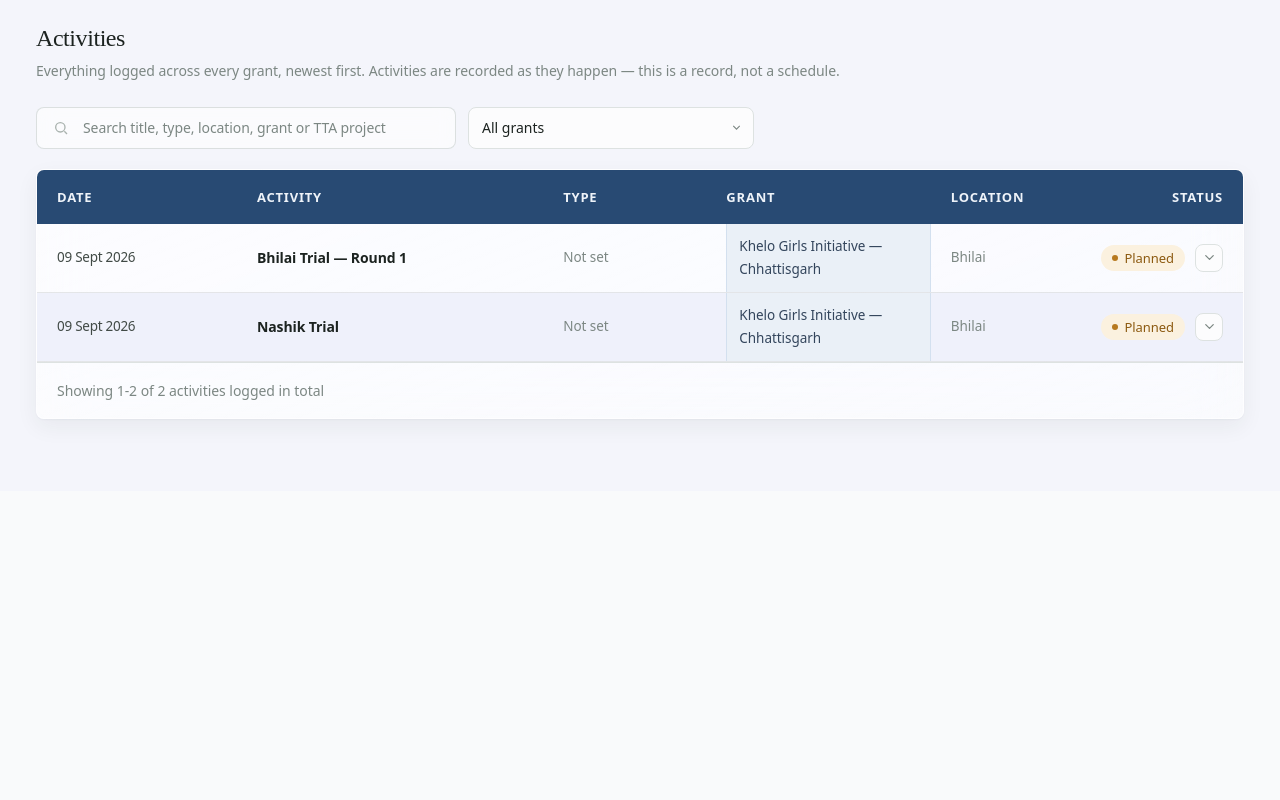
Test: the expanded detail names the partner, not a raw id
Click the button named "Show details for Bhilai Trial": (1209, 258) x1=1195 y1=244 x2=1223 y2=272
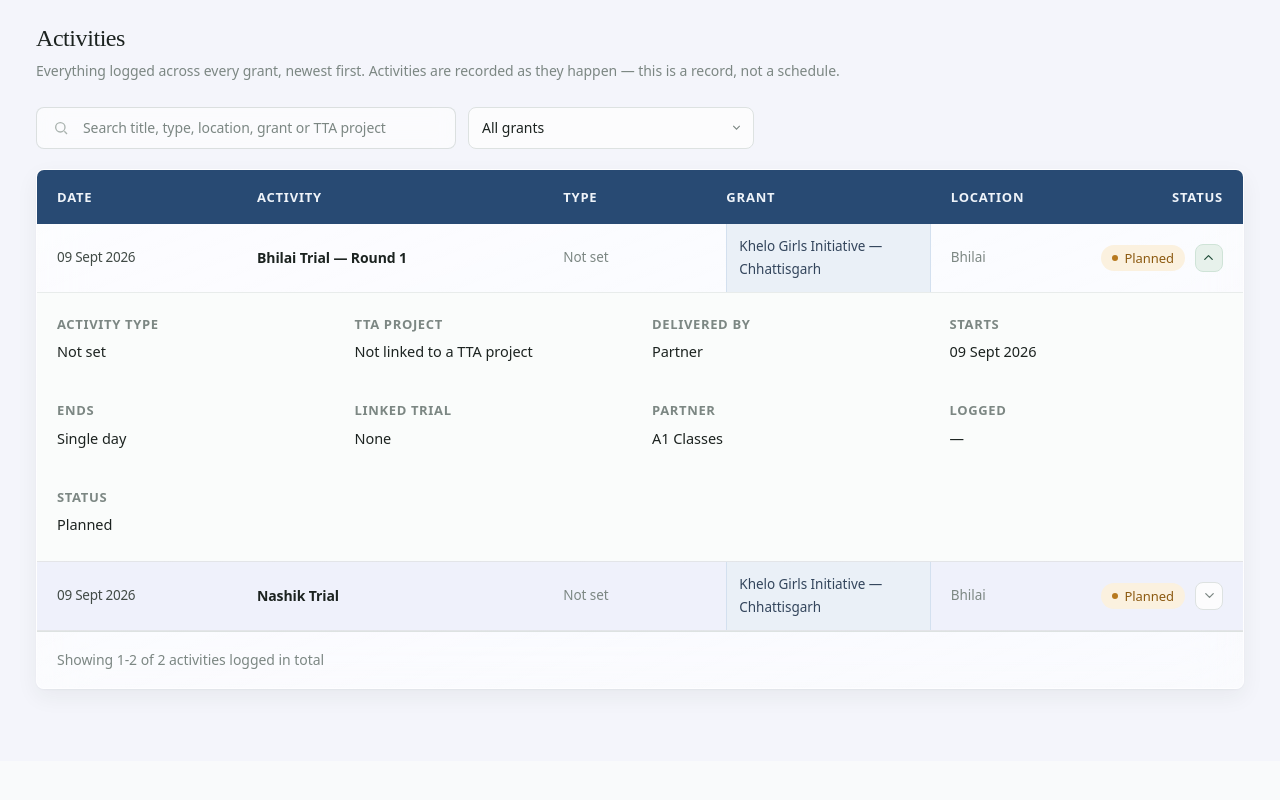
expect the text "A1 Classes" is shown: met, box x1=652 y1=428 x2=723 y2=448
Click the button named "Show details for Nashik Trial": (1209, 596) x1=1195 y1=582 x2=1223 y2=610
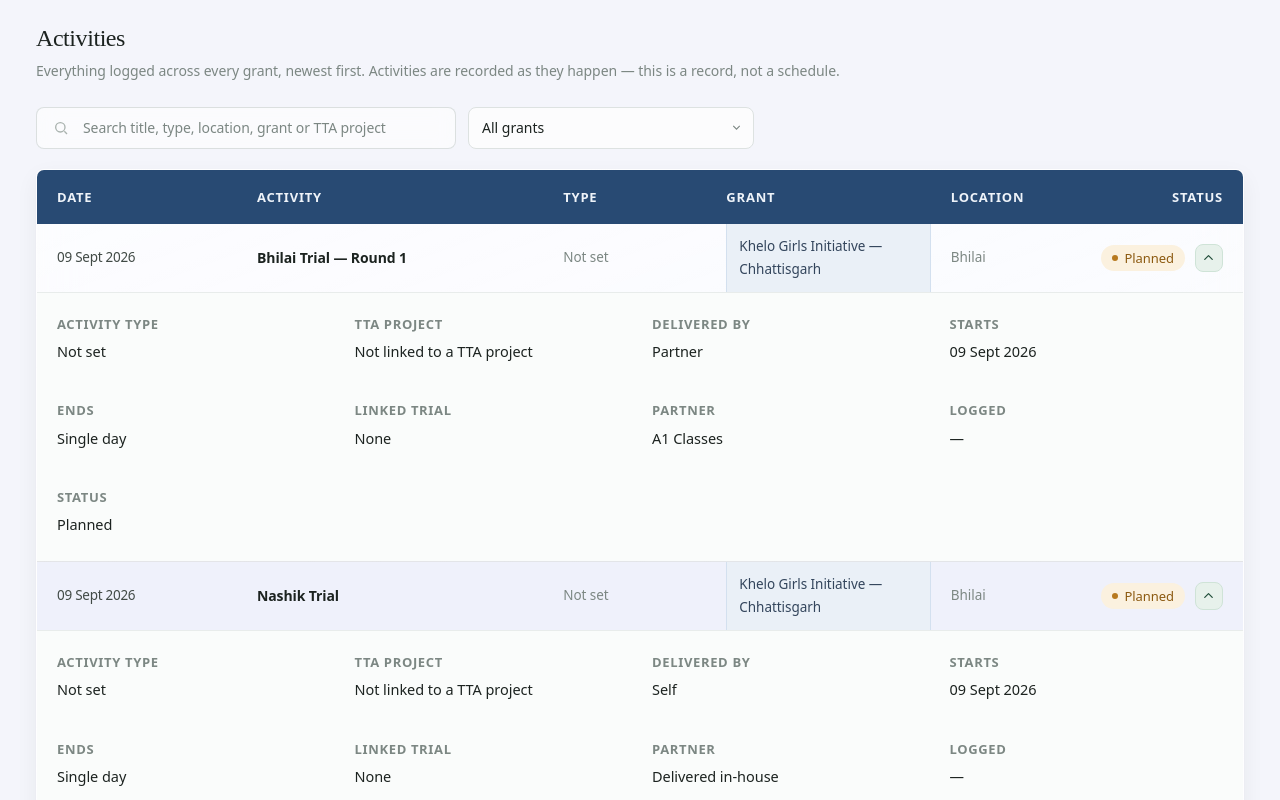
expect the text "Delivered in-house" is shown: met, box x1=652 y1=766 x2=779 y2=786
